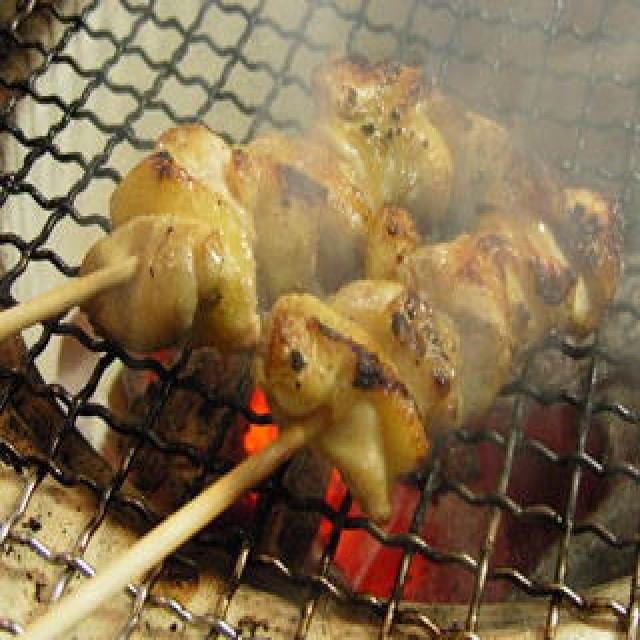烧串烤肉: (0, 42, 640, 640)
